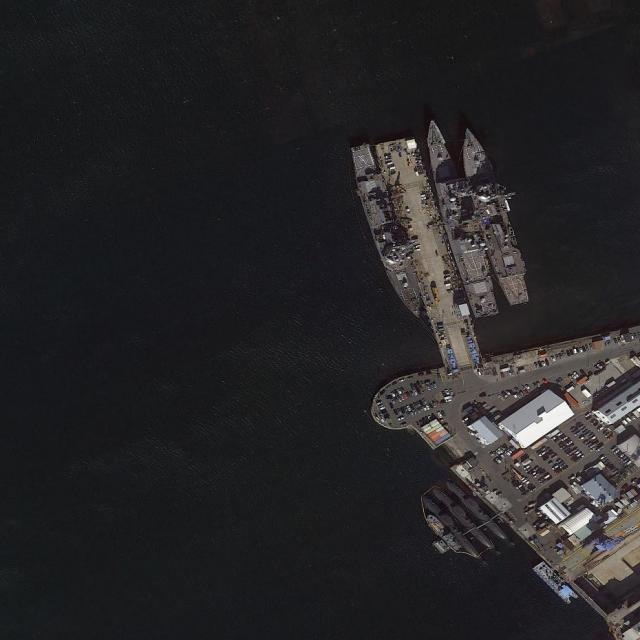Cruiser: (419, 116, 499, 320)
Destroyer: (451, 121, 535, 311), (345, 141, 428, 321)
Dock: (373, 135, 484, 373)
Other Warship: (423, 512, 464, 555), (431, 535, 451, 555)
Submarine: (428, 481, 497, 554), (440, 471, 508, 543), (419, 491, 485, 561)
